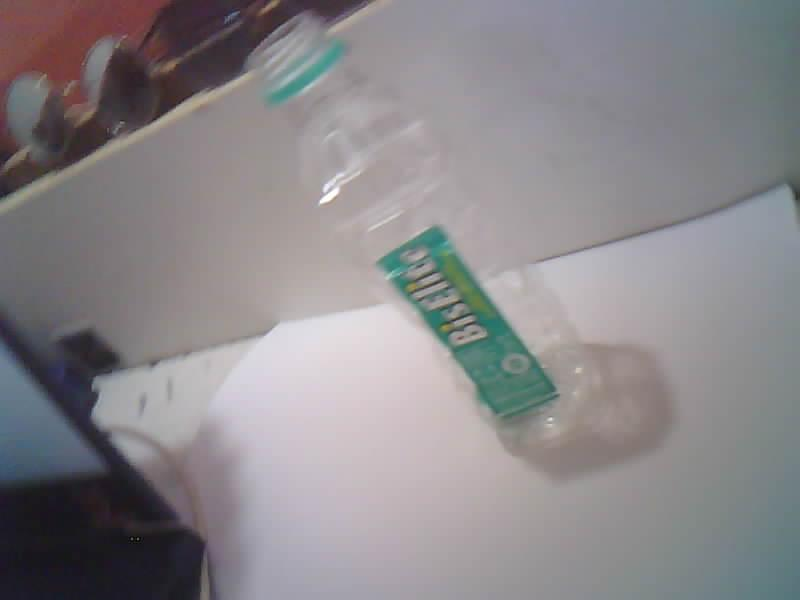non-biodegradable: (246, 13, 588, 440)
